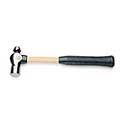hammer: (8, 44, 115, 79)
